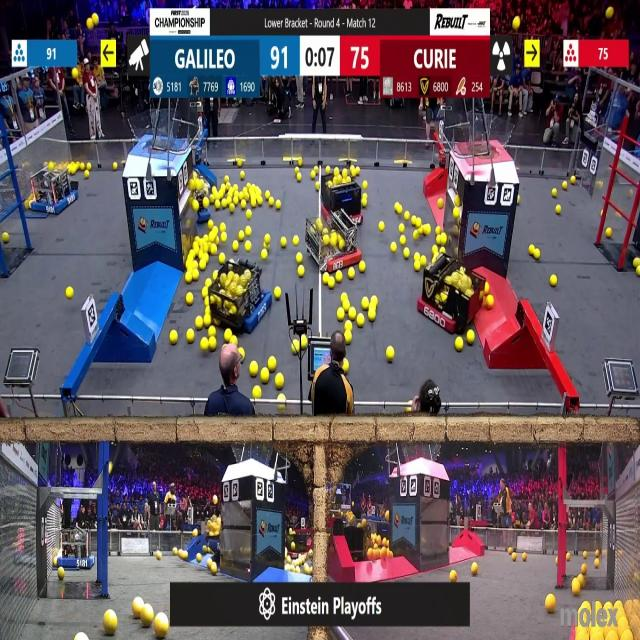ball_airborne: (605, 7, 613, 19), (514, 18, 521, 31), (88, 19, 95, 30), (72, 68, 78, 80)
ball_ground: (156, 616, 170, 639), (105, 612, 117, 636), (142, 608, 154, 629), (134, 601, 144, 620), (544, 594, 554, 612), (386, 346, 394, 362), (270, 356, 278, 371), (276, 375, 284, 390), (572, 582, 580, 597), (466, 332, 474, 346), (250, 361, 258, 375), (299, 337, 306, 352), (170, 332, 178, 345), (186, 328, 194, 341), (456, 338, 464, 351), (202, 339, 210, 352), (262, 371, 270, 384), (210, 562, 218, 574), (486, 294, 494, 306), (253, 386, 261, 398), (356, 315, 364, 327), (204, 316, 212, 328), (210, 338, 217, 351), (223, 331, 230, 344), (302, 566, 311, 576), (348, 309, 356, 320), (185, 292, 192, 304), (67, 286, 74, 298), (195, 317, 202, 329), (275, 287, 282, 299), (339, 309, 346, 321), (551, 275, 558, 287), (470, 563, 477, 575), (450, 569, 457, 581), (191, 200, 198, 212), (452, 208, 460, 218), (209, 233, 217, 243), (342, 301, 350, 311), (362, 296, 368, 309), (2, 233, 9, 244), (367, 311, 374, 322), (369, 295, 376, 306), (346, 333, 352, 345), (297, 266, 303, 278), (337, 272, 343, 284), (344, 360, 350, 372), (322, 274, 328, 286), (178, 551, 186, 560), (412, 214, 418, 226), (441, 235, 447, 247), (233, 242, 240, 252), (211, 244, 218, 254), (200, 262, 207, 272), (423, 224, 430, 234), (395, 204, 402, 214), (291, 344, 298, 354), (220, 200, 227, 210), (203, 199, 210, 209), (349, 269, 355, 280), (359, 263, 365, 274), (185, 273, 191, 284), (402, 248, 408, 259), (245, 241, 251, 252), (534, 249, 540, 260), (250, 200, 258, 208), (278, 393, 286, 401), (209, 326, 216, 335), (245, 226, 252, 235), (230, 204, 237, 213), (233, 198, 240, 207), (69, 166, 76, 175), (219, 253, 225, 263), (296, 253, 302, 263), (281, 238, 287, 248), (60, 568, 66, 578), (414, 263, 420, 273), (192, 271, 198, 281), (605, 230, 611, 240), (263, 250, 269, 260), (346, 320, 352, 330), (241, 200, 247, 210), (361, 198, 367, 208), (239, 232, 245, 242), (256, 198, 262, 208), (439, 200, 445, 210), (580, 564, 586, 574), (414, 232, 420, 242), (342, 292, 348, 302), (203, 288, 209, 297), (276, 201, 282, 210), (399, 237, 405, 246), (220, 222, 226, 231), (398, 223, 404, 232), (269, 199, 275, 208), (246, 210, 252, 219), (292, 237, 298, 246), (212, 272, 218, 281), (206, 279, 212, 288), (418, 225, 424, 234), (232, 336, 238, 345), (266, 235, 271, 245), (634, 257, 639, 267), (391, 243, 396, 253), (529, 246, 534, 256), (328, 278, 333, 288), (406, 212, 411, 222), (421, 257, 426, 267), (485, 283, 490, 293), (435, 236, 440, 246), (108, 462, 113, 472), (112, 164, 118, 172), (195, 554, 201, 562), (220, 234, 226, 242), (83, 171, 89, 179), (155, 552, 161, 560), (562, 181, 568, 189), (415, 253, 421, 261), (441, 246, 447, 254), (566, 554, 572, 562), (173, 549, 179, 557), (192, 262, 198, 270), (327, 166, 333, 174), (192, 529, 198, 537), (596, 601, 602, 609), (380, 221, 385, 230), (266, 190, 271, 199), (215, 201, 220, 210), (240, 190, 245, 199), (435, 226, 441, 233), (88, 165, 94, 172), (204, 235, 210, 242), (237, 161, 243, 168), (557, 206, 562, 214), (595, 560, 600, 568), (316, 182, 321, 190), (570, 176, 575, 184), (553, 188, 558, 196), (208, 220, 213, 228), (432, 246, 437, 254), (636, 268, 640, 278), (205, 296, 210, 304), (362, 180, 367, 188), (311, 172, 316, 180), (240, 172, 245, 180), (356, 166, 360, 176), (79, 164, 84, 172), (523, 553, 527, 562), (204, 544, 208, 553), (584, 553, 589, 560), (595, 551, 600, 558), (223, 176, 228, 183), (212, 185, 217, 192), (507, 546, 512, 553), (240, 348, 244, 356), (297, 161, 301, 169), (296, 175, 300, 182), (294, 166, 298, 173), (513, 554, 517, 561), (408, 409, 412, 416), (516, 198, 519, 206)
goal: (460, 119, 516, 158), (129, 116, 186, 152)
robot_blue: (208, 258, 270, 334), (30, 162, 77, 215), (59, 530, 95, 570)
robot_red: (419, 266, 483, 333), (306, 214, 363, 270), (321, 165, 361, 218), (282, 529, 306, 558)
